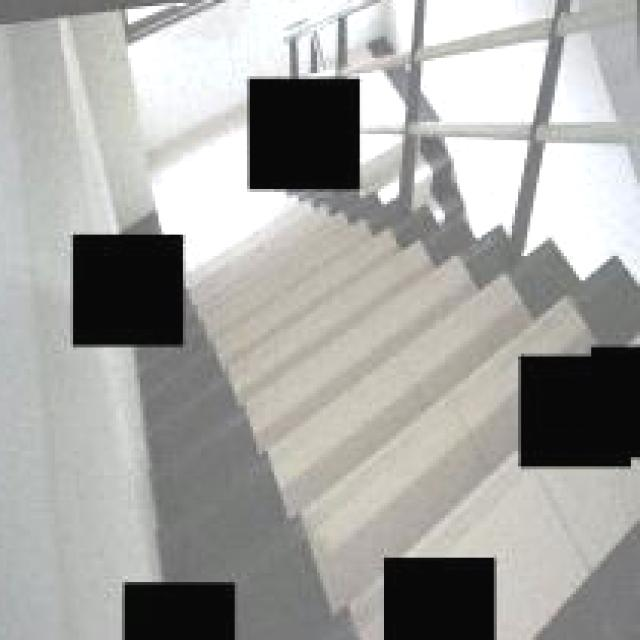downstair: (221, 266, 486, 531)
